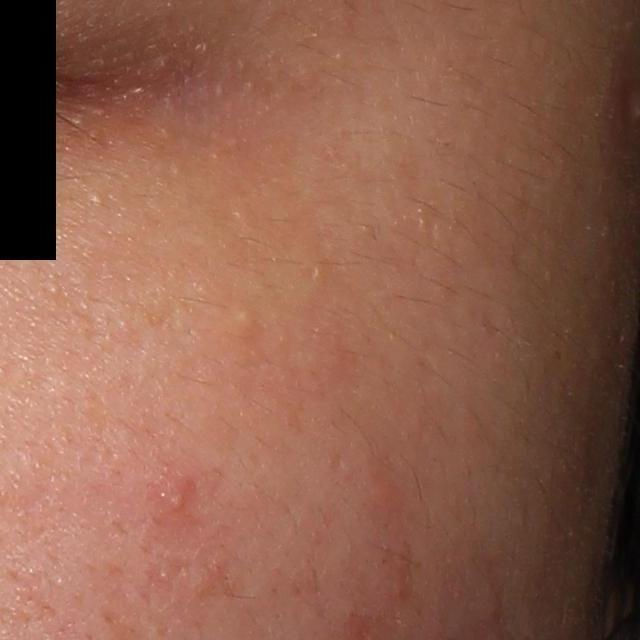comedo: (234, 308, 252, 328)
